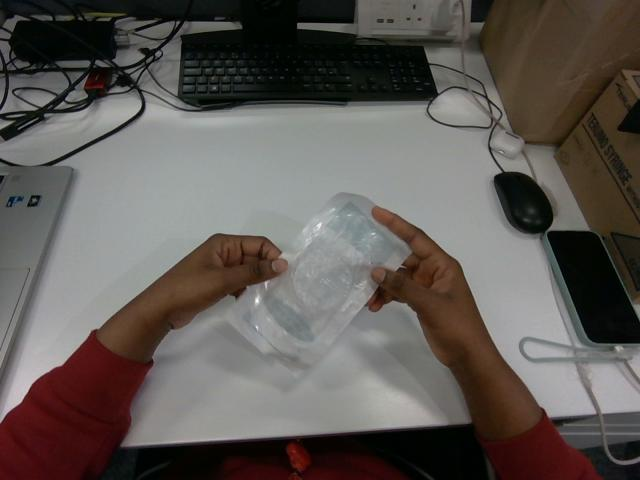gallipot: (227, 193, 409, 371)
